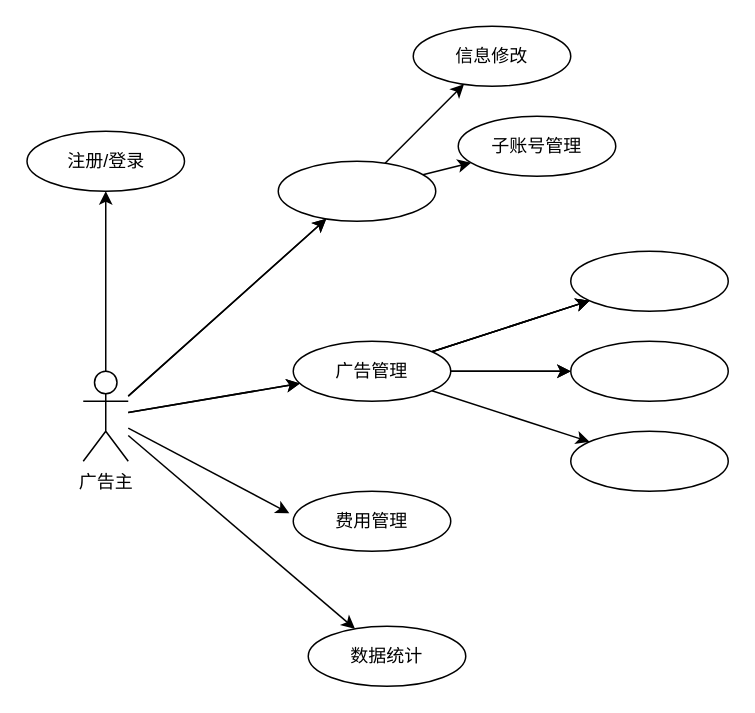
This 755x713 diagram has some shape labels left out. Each missing label, with the centre of its shape:
"创意管理" goes at pixel 648 460.
"推广单元管理" goes at pixel 648 370.
"推广计划管理" goes at pixel 648 280.
"账号管理" goes at pixel 356 190.
